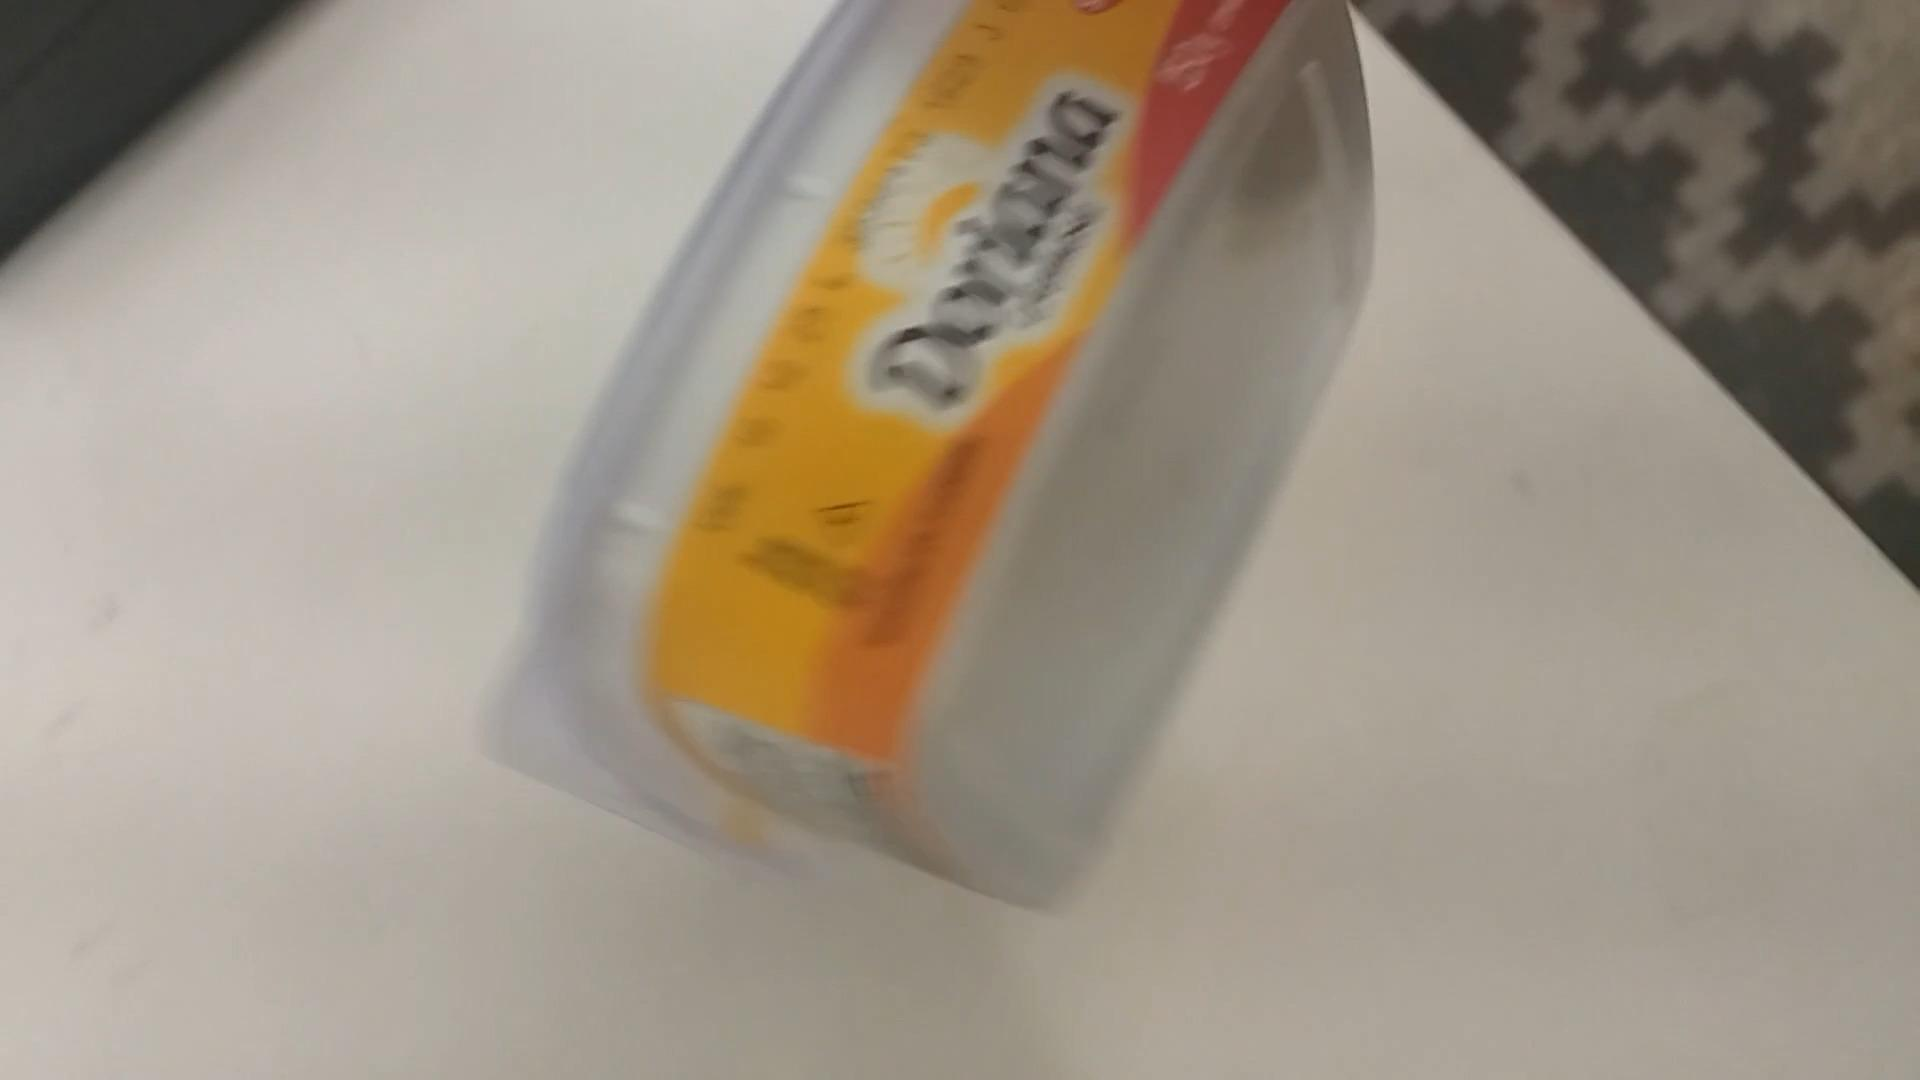butter: (485, 9, 1364, 924)
